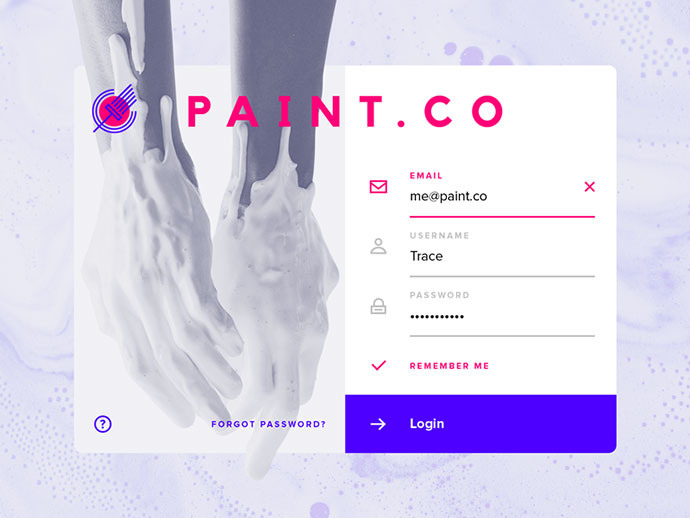_form_: (222, 67, 640, 483)
button: (344, 394, 616, 454)
checkbox: (370, 354, 389, 376)
checkbox_with_label: (369, 351, 490, 377)
field_line: (406, 243, 596, 278), (408, 305, 596, 338), (406, 187, 597, 219)
field_line_with_label: (403, 168, 599, 221), (404, 231, 597, 279), (406, 290, 597, 338)
